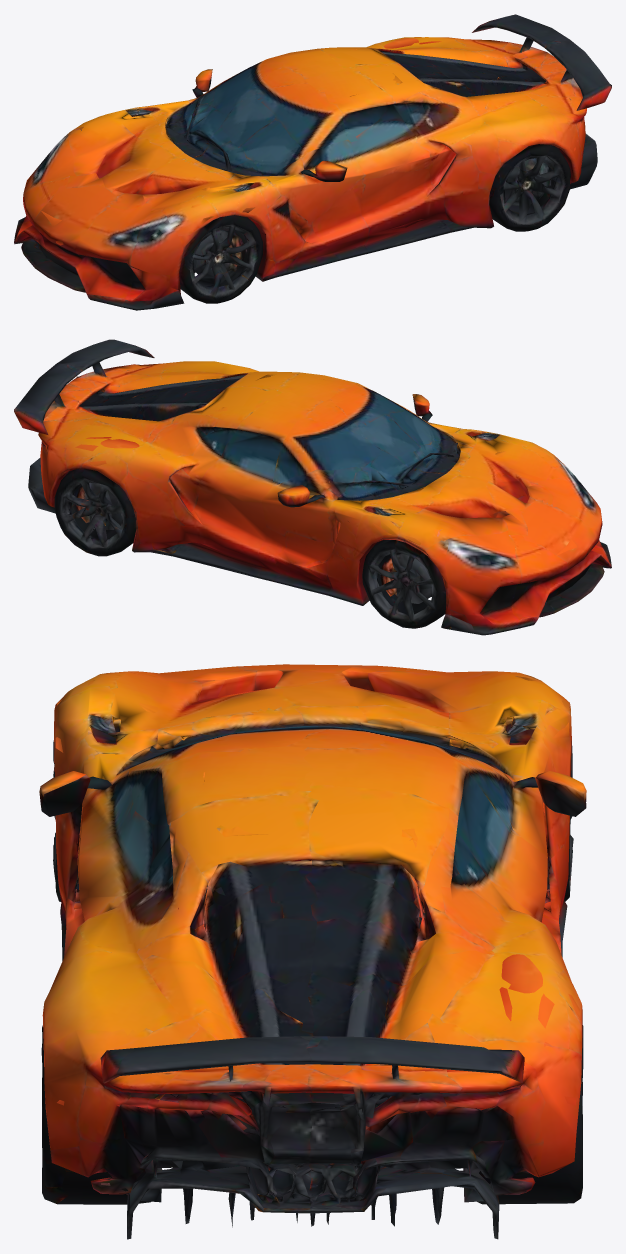
Rendered from r_sports.glb.
3 views of the same model, one above another, from view 1: azimuth 30°, elevation 25°; view 2: azimuth 150°, elevation 25°; view 3: azimuth 270°, elevation 25° (orthographic). The views are drawn at different scales.
Bounding box in the file's own units: 1.9 × 0.5009 × 0.851.
Materials: 1 (1 with a texture image).
